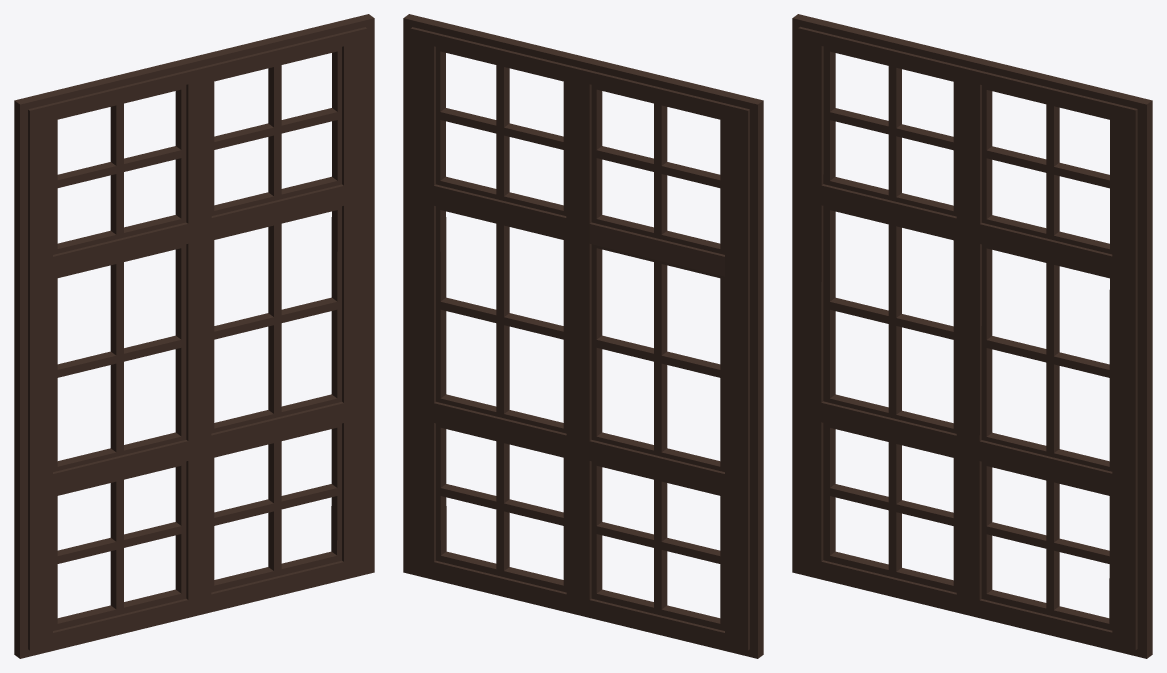
File: window.fbx
3 views of the same model, side by side, from view 1: azimuth 30°, elevation 25°; view 2: azimuth 150°, elevation 25°; view 3: azimuth 330°, elevation 25° (orthographic).
Visible parts, largest first — view 1: pCube27; view 2: pCube27; view 3: pCube27.
Part boxes in pixels (left/top/right/bottom): pCube27: left=14, top=14, right=374, bottom=658; pCube27: left=403, top=14, right=763, bottom=658; pCube27: left=792, top=14, right=1152, bottom=658.
Bounding box in the file's own units: 1.19 × 1.77 × 0.0556.
